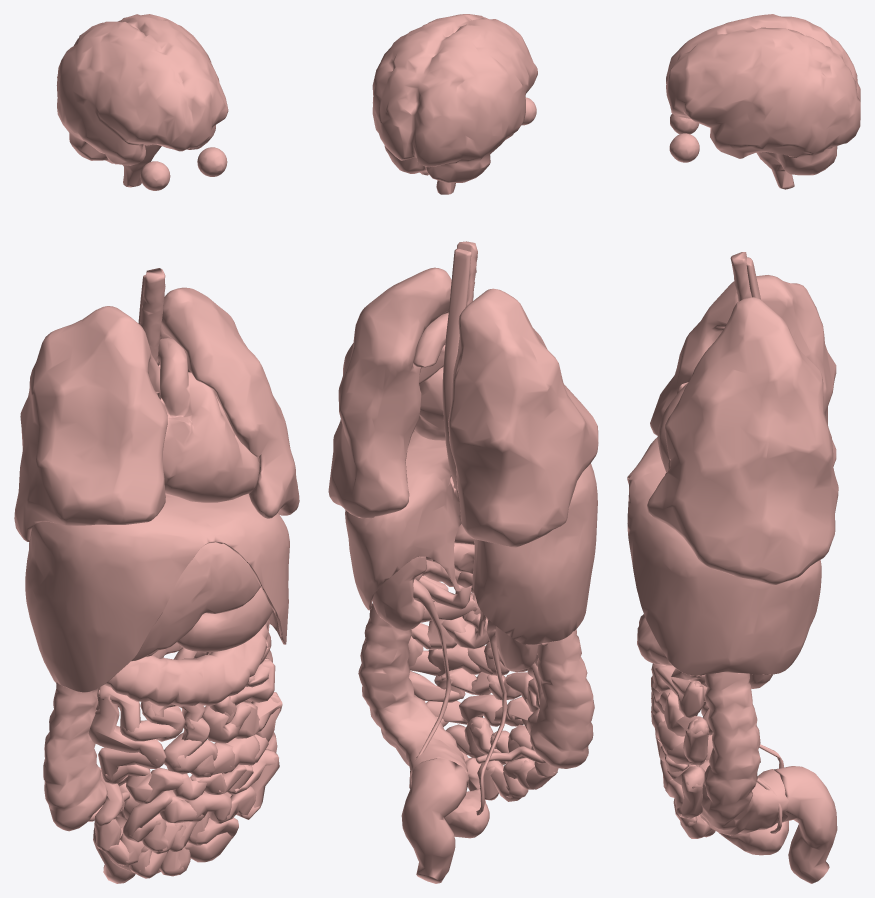
File: organe.glb
The picture shows the model from 3 angles, left to right: view 1: azimuth 30°, elevation 25°; view 2: azimuth 150°, elevation 25°; view 3: azimuth 270°, elevation 25°; orthographic projection. The views are drawn at different scales.
Parts seen in each view (by area): view 1: zwerchfell, lunge-r, duenndarm, gehirn, dickdarm, lunge-l, herz, leber, magen, luftroehre, auge-r, auge-l; view 2: lunge-r, zwerchfell, gehirn, dickdarm, lunge-l, duenndarm, herz, speiseroehre, niere-l, harnblase, harnleiter-l, niere-r (+3 smaller); view 3: lunge-l, gehirn, zwerchfell, dickdarm, duenndarm, lunge-r, harnblase, auge-l, luftroehre, herz.
Boxes of the visible parts, x1,y1,x2,y2 form: zwerchfell: (25,493,289,692); lunge-r: (14,306,167,541); duenndarm: (88,641,282,878); gehirn: (56,14,228,187); dickdarm: (43,618,277,883); lunge-l: (160,287,299,518); herz: (155,338,259,502); leber: (131,543,260,661); magen: (176,587,273,651); luftroehre: (140,268,165,367); auge-r: (140,161,170,190); auge-l: (197,147,227,176); lunge-r: (448,288,598,645); zwerchfell: (345,430,597,644); gehirn: (372,14,537,194); dickdarm: (358,560,594,883); lunge-l: (328,267,451,518); duenndarm: (407,572,558,801); herz: (413,312,448,440); speiseroehre: (442,248,471,489); niere-l: (372,556,426,630); harnblase: (444,789,489,838); harnleiter-l: (409,578,451,788); niere-r: (495,626,538,671); lunge-l: (647,297,838,585); gehirn: (666,14,860,189); zwerchfell: (627,437,821,675); dickdarm: (637,614,837,883); duenndarm: (651,663,715,838); lunge-r: (650,275,836,466); harnblase: (719,821,788,855); auge-l: (669,133,699,162); luftroehre: (730,252,751,301); herz: (657,382,688,472).
Bounding box in the file's own units: 0.2628 × 0.8729 × 0.2154.
